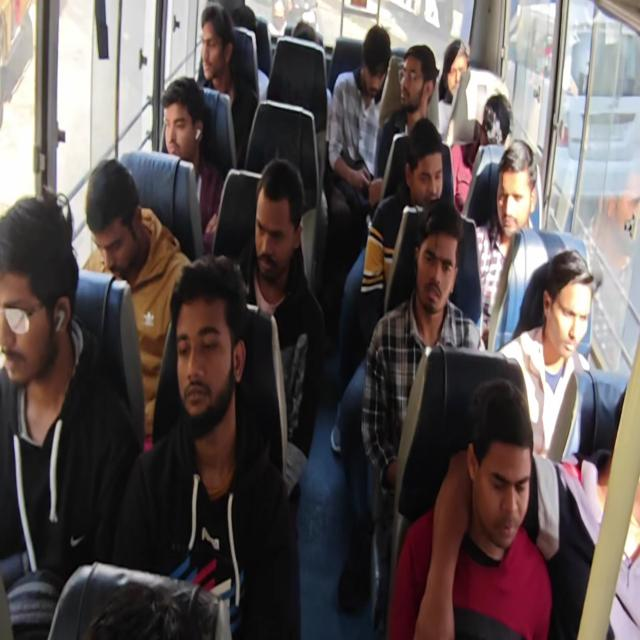person: (0, 192, 85, 403), (464, 391, 534, 548), (172, 268, 237, 435), (82, 170, 145, 280), (244, 166, 300, 282), (157, 82, 212, 178), (550, 258, 592, 359), (498, 154, 536, 243), (421, 227, 452, 319), (191, 16, 227, 76), (412, 144, 446, 205), (396, 55, 428, 110), (359, 40, 388, 100), (480, 101, 511, 156), (446, 46, 474, 104)
